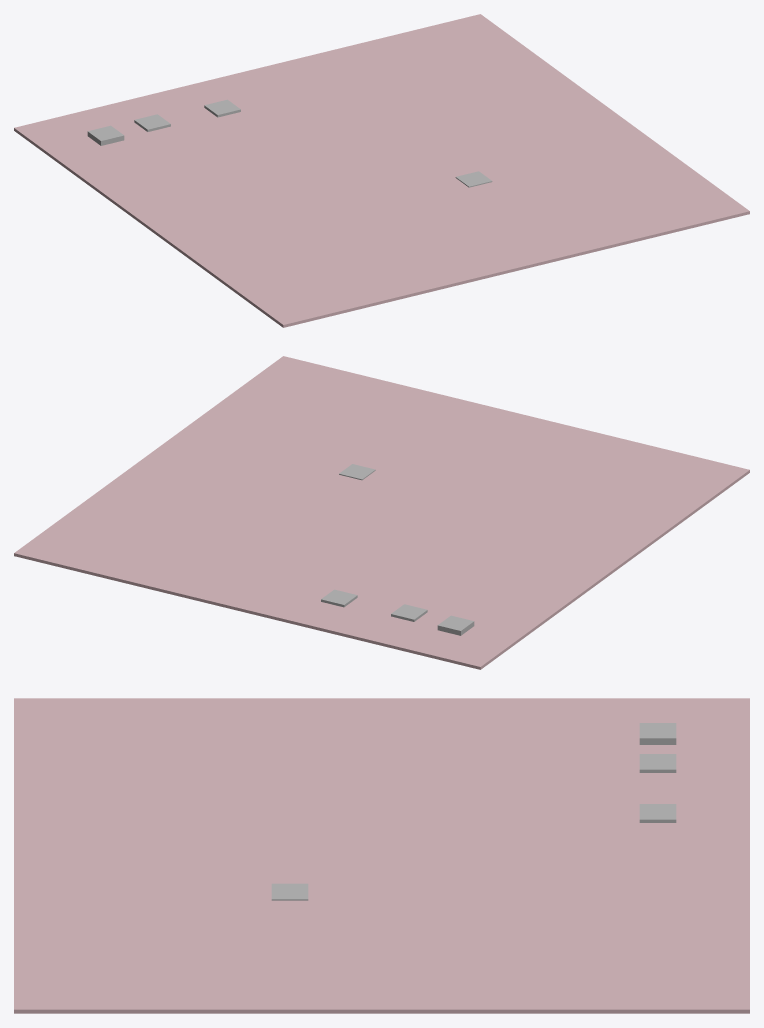
The model's file is board.glb.
The picture shows the model from 3 angles, top to bottom: view 1: azimuth 30°, elevation 25°; view 2: azimuth 150°, elevation 25°; view 3: azimuth 270°, elevation 25°; orthographic projection. The views are drawn at different scales.
Visible parts, largest first — view 1: Substrate_Layer_0; view 2: Substrate_Layer_0; view 3: Substrate_Layer_0, StackedChip, LevelChip, SideChip, ComplexChip.
Boxes of the visible parts, bbox=[...] form: Substrate_Layer_0: bbox=[14, 14, 749, 327]; Substrate_Layer_0: bbox=[14, 356, 749, 669]; Substrate_Layer_0: bbox=[14, 698, 749, 1013]; StackedChip: bbox=[639, 723, 676, 741]; LevelChip: bbox=[639, 754, 676, 772]; SideChip: bbox=[639, 804, 676, 822]; ComplexChip: bbox=[271, 883, 308, 900].
Bounding box in the file's own units: 0.1 × 0.0016 × 0.1.
